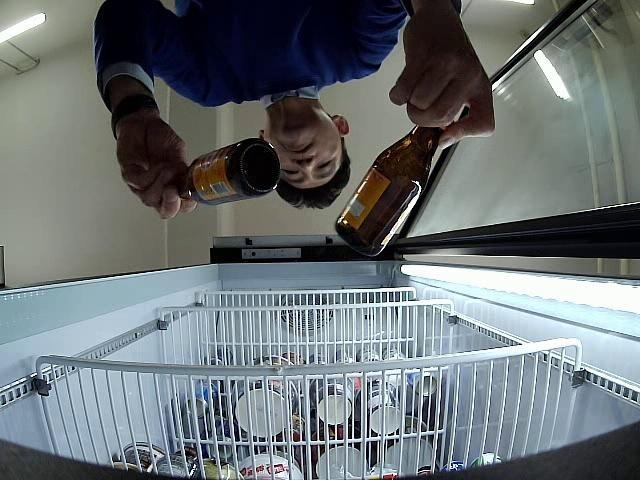17_vita500: (333, 121, 445, 262), (176, 138, 280, 206)
